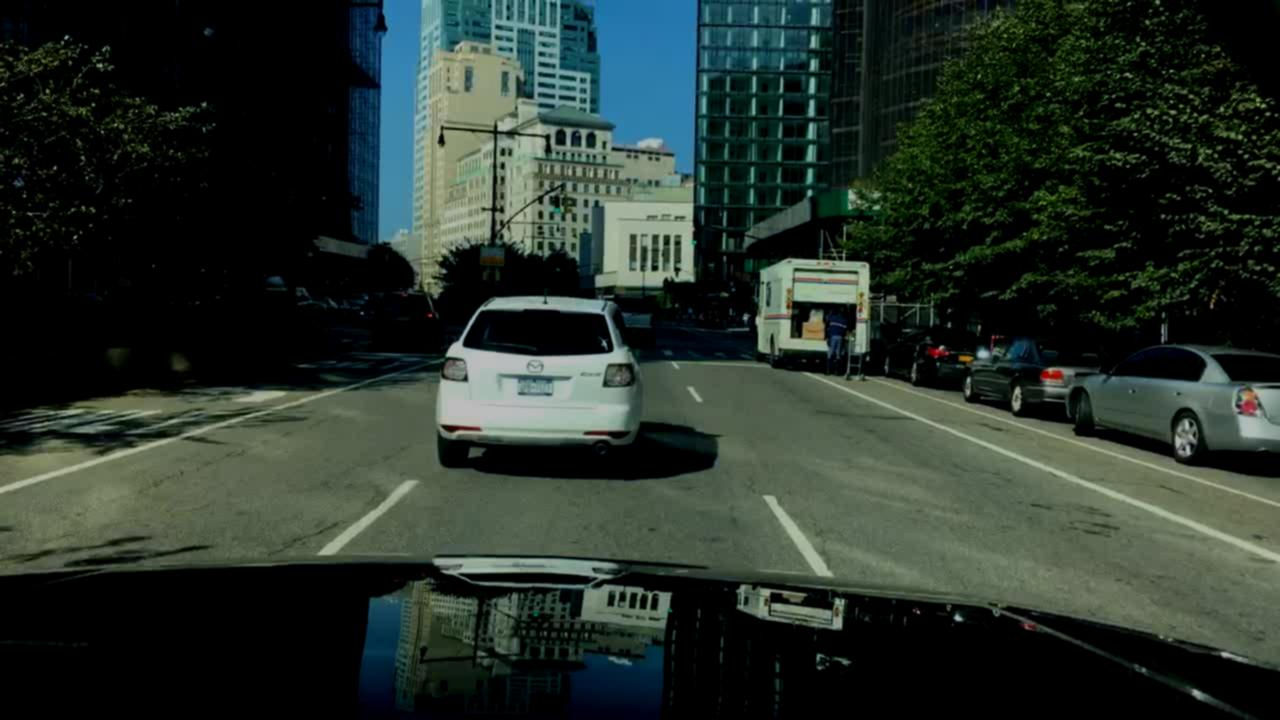Mazda: (515, 350, 555, 377)
